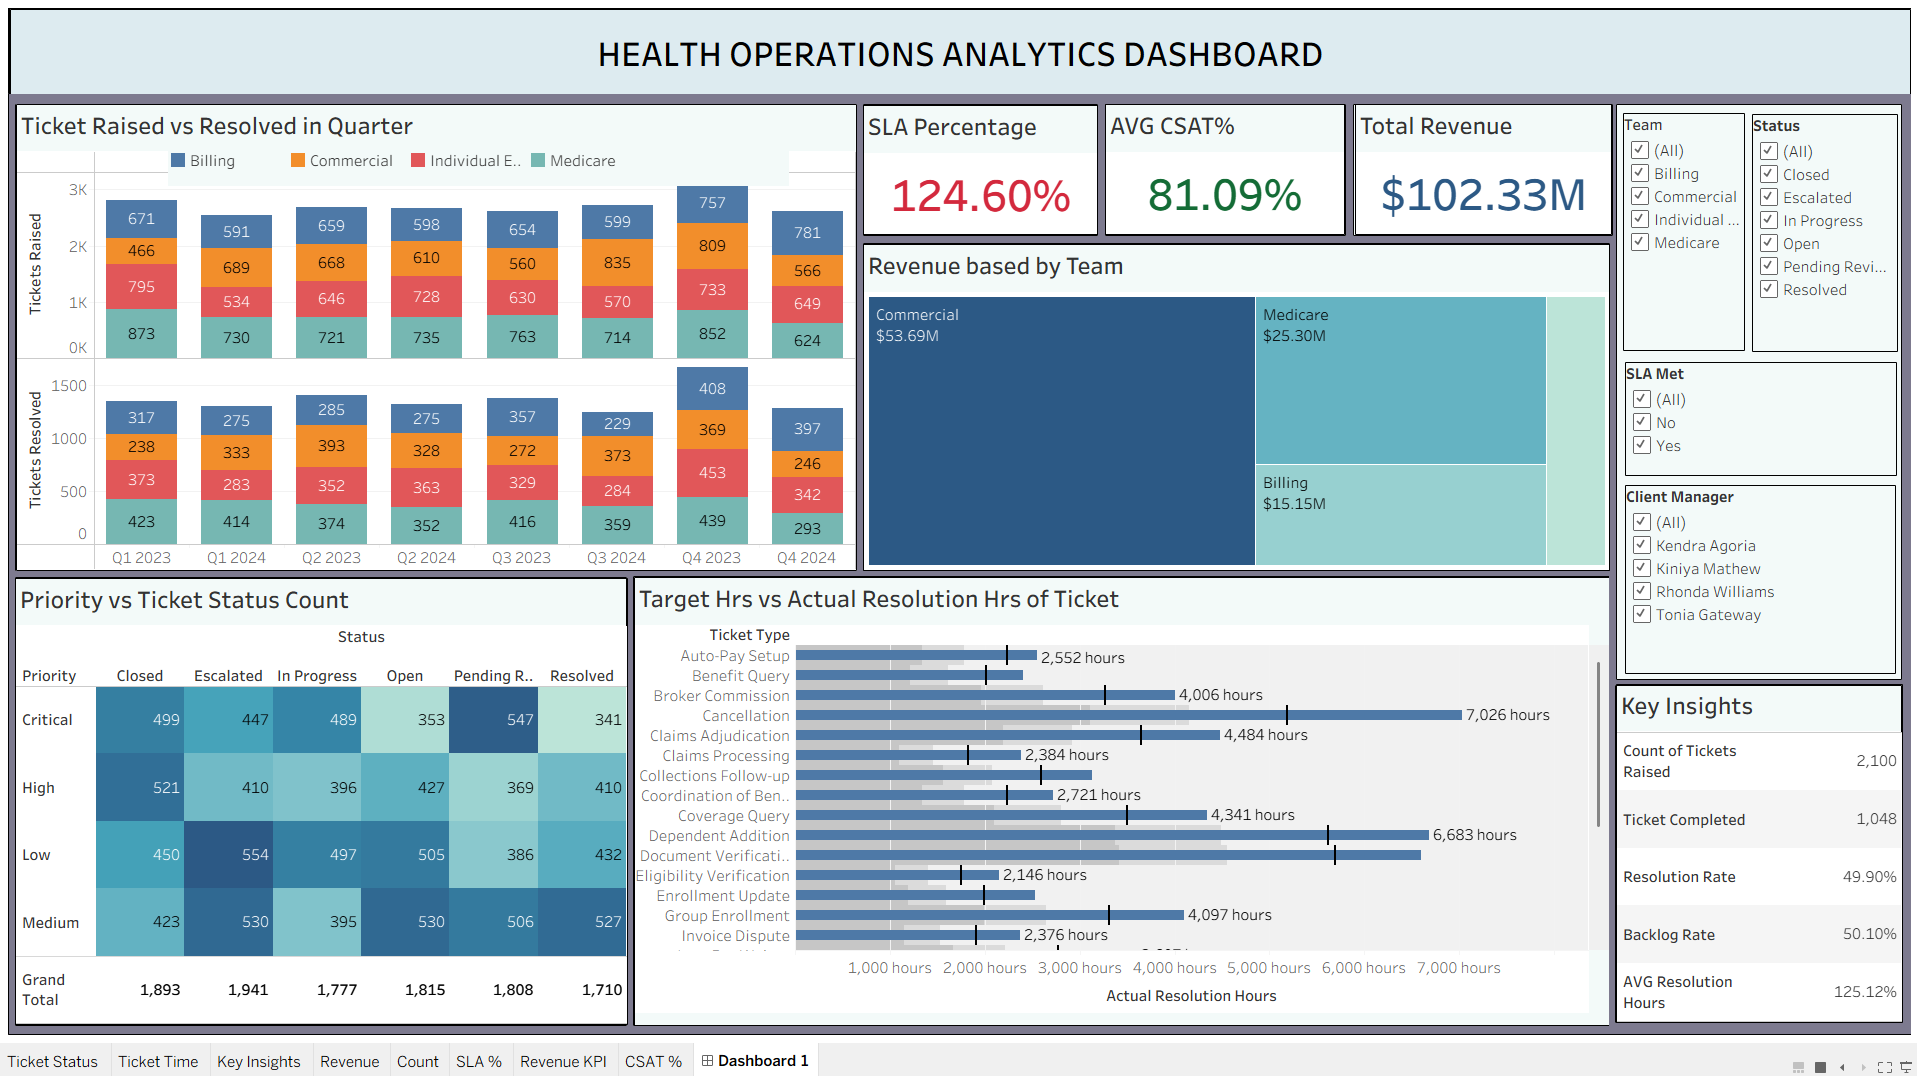

Layout of this report page (visuals, bound fields, positions):
{"tool":"tableau","page":{"name":"Dashboard 1","canvas":[1000,1000],"units":"permille","ordinal":0},"visuals":[{"type":"text","box":[5.4,8.2,990.3,82.3]},{"type":"worksheet","title":"Ticket Status","mark":"Automatic","rows":["Tickets_Raised","Tickets_Resolved"],"cols":["Quarter"],"box":[8.4,99.9,438.1,447.7]},{"type":"worksheet","title":"CSAT %","mark":"Text","box":[575.7,99.9,124.9,125.7]},{"type":"worksheet","title":"Revenue KPI","mark":"Automatic","box":[705.5,99.9,134,125.7]},{"type":"worksheet","title":"SLA %","mark":"Text","box":[449.6,101.1,122.5,124.6]},{"type":"filter","title":"Revenue KPI","param":"[federated.15h5m5e0swjz2e19ucj8s1t5u5pr].[none:Project:nk]","box":[845.5,108.1,63.4,228]},{"type":"legend","title":"Ticket Status","param":"[federated.15h5m5e0swjz2e19ucj8s1t5u5pr].[none:Quarter:nk]","box":[846.1,109.3,61,229.1]},{"type":"filter","title":"Ticket Status","param":"[federated.15h5m5e0swjz2e19ucj8s1t5u5pr].[none:Status:nk]","box":[912.5,109.3,76,228]},{"type":"legend","title":"Ticket Status","param":"[federated.15h5m5e0swjz2e19ucj8s1t5u5pr].[none:Project:nk]","box":[87.5,143.4,323.5,35.2]},{"type":"worksheet","title":"Revenue","mark":"Automatic","box":[449.7,233.8,389.3,313.8]},{"type":"filter","title":"Key Insights","param":"[federated.15h5m5e0swjz2e19ucj8s1t5u5pr].[none:SLA_Met:nk]","box":[846.1,346.7,141.8,109.3]},{"type":"filter","title":"Revenue","param":"[federated.15h5m5e0swjz2e19ucj8s1t5u5pr].[none:Client_Manager:nk]","box":[846.1,465.3,141.2,181]},{"type":"worksheet","title":"Ticket Time","mark":"Automatic","rows":["Ticket_Type"],"cols":["Actual_Resolution_Hours"],"box":[330.1,553.5,508.2,430.1]},{"type":"worksheet","title":"Count","mark":"Square","rows":["Priority"],"cols":["Status"],"box":[7.9,554.6,319.4,428.9]},{"type":"worksheet","title":"Key Insights","mark":"Text","box":[841.6,655.7,149.4,325.5]}]}

Visuals, with their boxes on the dashboard's canvas, which has no fixed pixel size, in thousandths of its width and height (x1, y1, x2, y2). These are canvas units, not pixel positions in the 1917x1076 screenshot, which may show the page scaled, cropped or inside an application window:
text: {"x1": 5, "y1": 8, "x2": 996, "y2": 90}
"Ticket Status" worksheet: {"x1": 8, "y1": 100, "x2": 446, "y2": 548}
"CSAT %" worksheet (Text marks): {"x1": 576, "y1": 100, "x2": 701, "y2": 226}
"Revenue KPI" worksheet: {"x1": 706, "y1": 100, "x2": 840, "y2": 226}
"SLA %" worksheet (Text marks): {"x1": 450, "y1": 101, "x2": 572, "y2": 226}
"Revenue KPI" filter: {"x1": 846, "y1": 108, "x2": 909, "y2": 336}
"Ticket Status" legend: {"x1": 846, "y1": 109, "x2": 907, "y2": 338}
"Ticket Status" filter: {"x1": 912, "y1": 109, "x2": 988, "y2": 337}
"Ticket Status" legend: {"x1": 88, "y1": 143, "x2": 411, "y2": 179}
"Revenue" worksheet: {"x1": 450, "y1": 234, "x2": 839, "y2": 548}
"Key Insights" filter: {"x1": 846, "y1": 347, "x2": 988, "y2": 456}
"Revenue" filter: {"x1": 846, "y1": 465, "x2": 987, "y2": 646}
"Ticket Time" worksheet: {"x1": 330, "y1": 554, "x2": 838, "y2": 984}
"Count" worksheet (Square marks): {"x1": 8, "y1": 555, "x2": 327, "y2": 984}
"Key Insights" worksheet (Text marks): {"x1": 842, "y1": 656, "x2": 991, "y2": 981}
